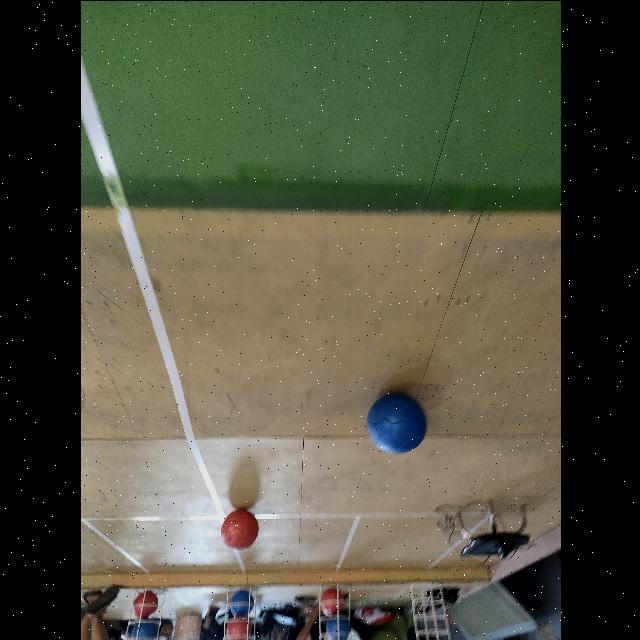B: (365, 393, 426, 452)
R: (220, 509, 257, 550)
